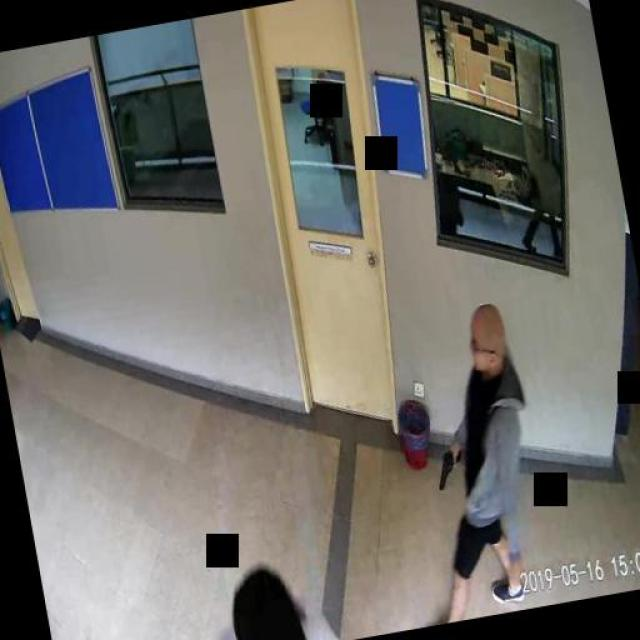gun: (430, 444, 464, 491)
